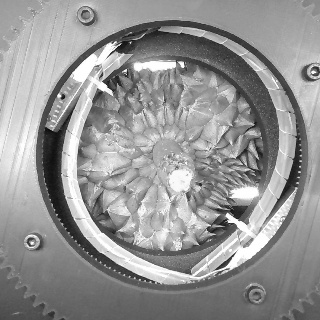base: (145, 132, 193, 168)
end: (168, 168, 193, 193)
